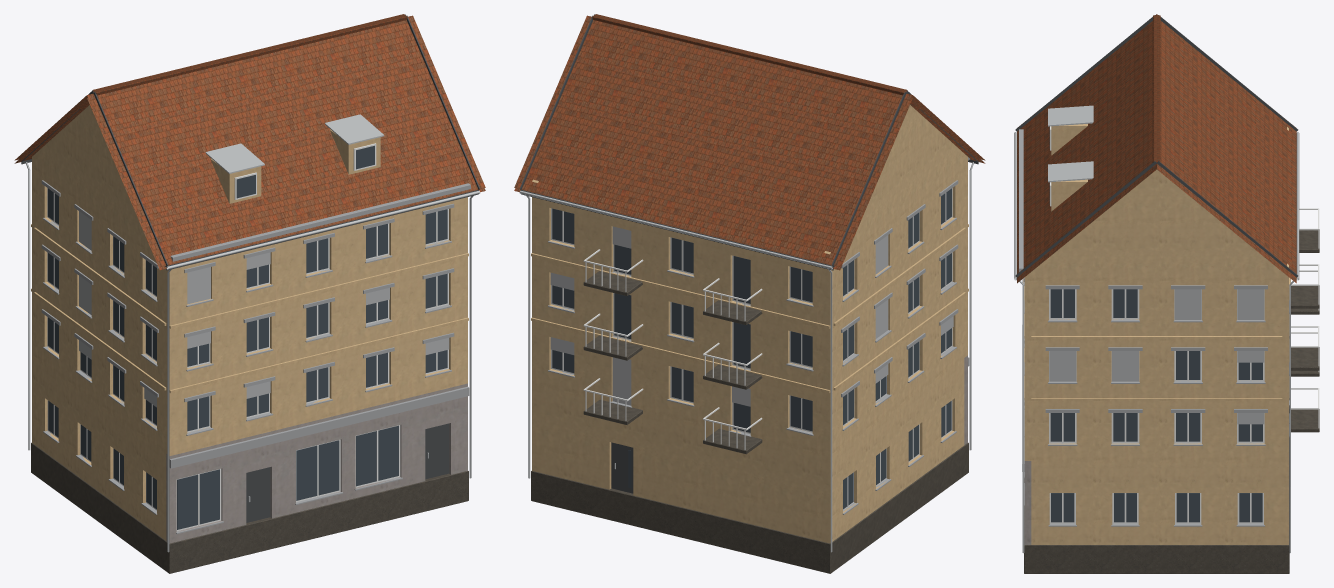
The model's file is block-row-4-ends.glb.
The picture shows the model from 3 angles, left to right: view 1: azimuth 30°, elevation 25°; view 2: azimuth 150°, elevation 25°; view 3: azimuth 270°, elevation 25°; orthographic projection. The views are drawn at different scales.
Visible parts, largest first — view 1: block-row-4-ends-plaster0; view 2: block-row-4-ends-plaster0; view 3: block-row-4-ends-plaster0.
Boxes of the visible parts, bbox=[...] form: block-row-4-ends-plaster0: bbox=[14, 14, 485, 573]; block-row-4-ends-plaster0: bbox=[514, 14, 985, 573]; block-row-4-ends-plaster0: bbox=[1014, 14, 1319, 573].
Size of the model in its own units: 16.4 by 20.86 by 13.88.
11 materials, 5 textured.
